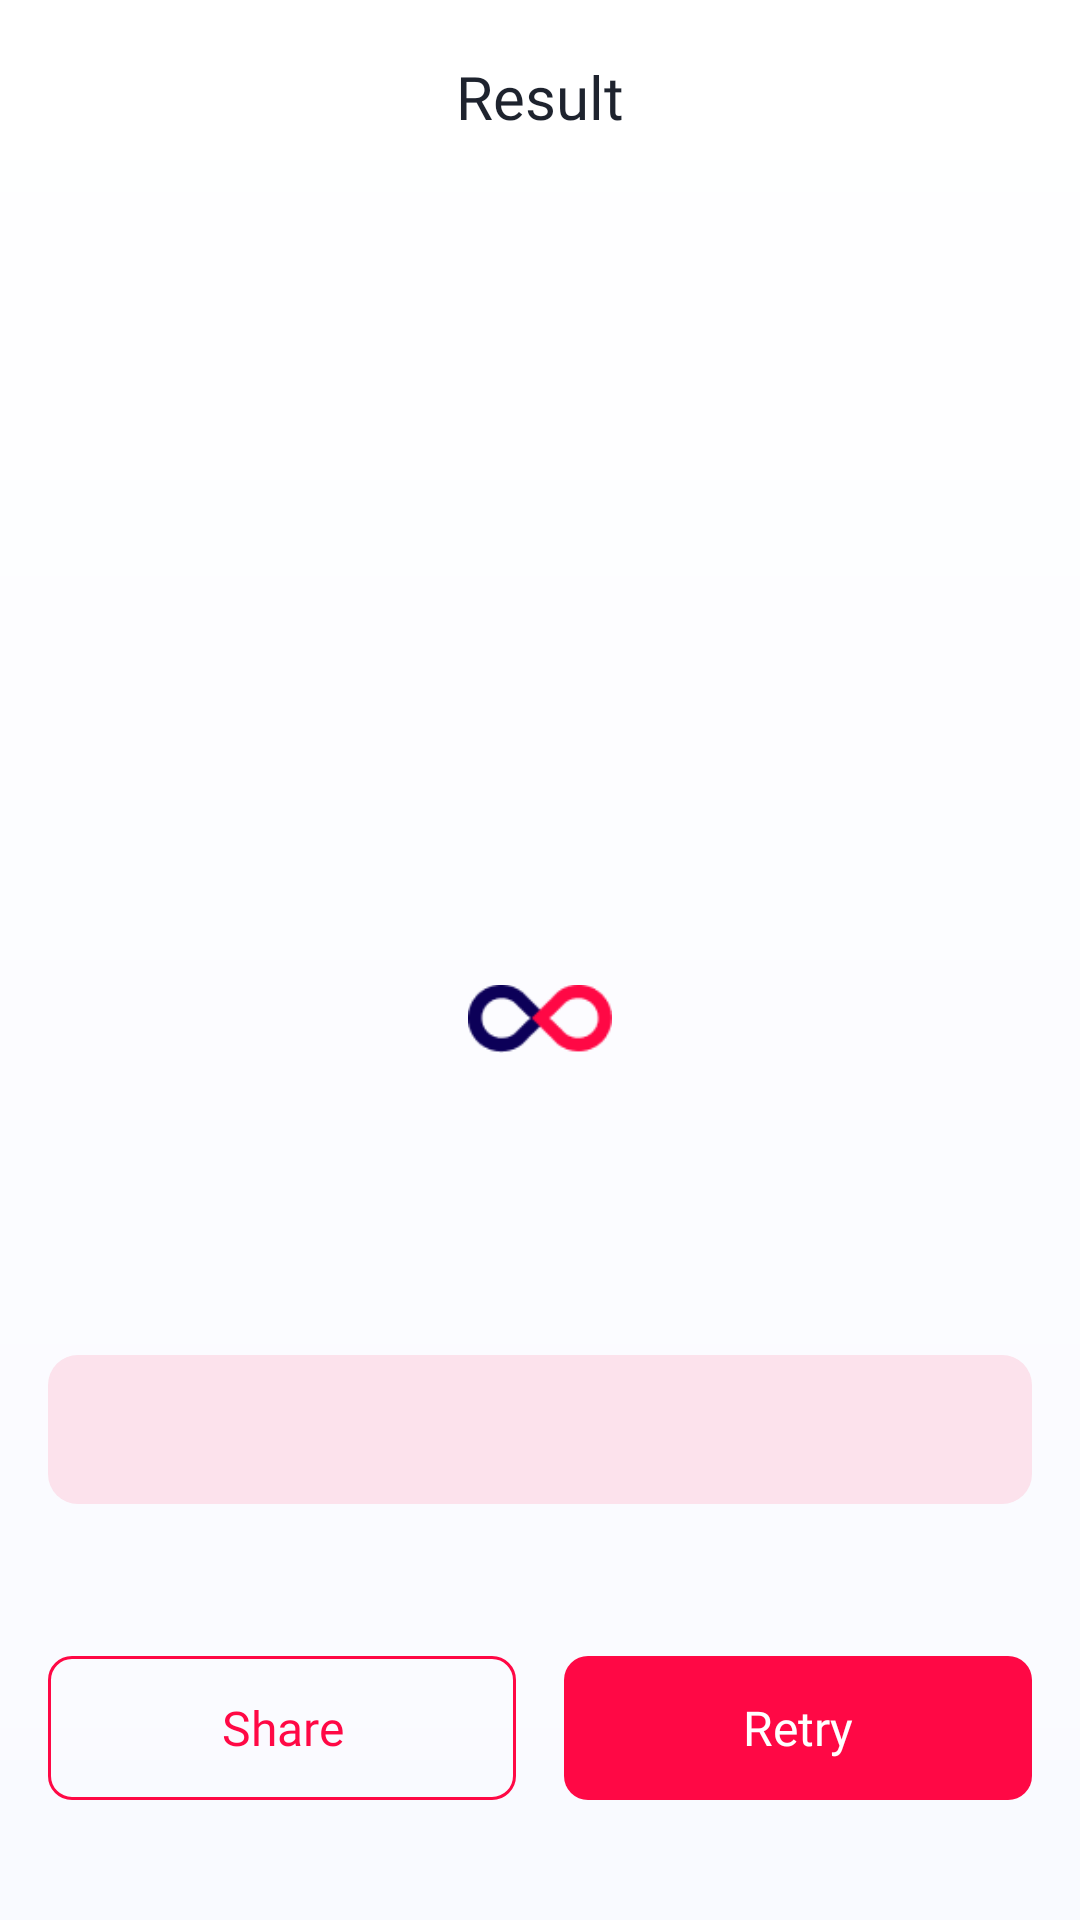

Icons on this 1080x1920 Android screen, each with the point to tap as (x,y):
Love infinity: (540,1019)
